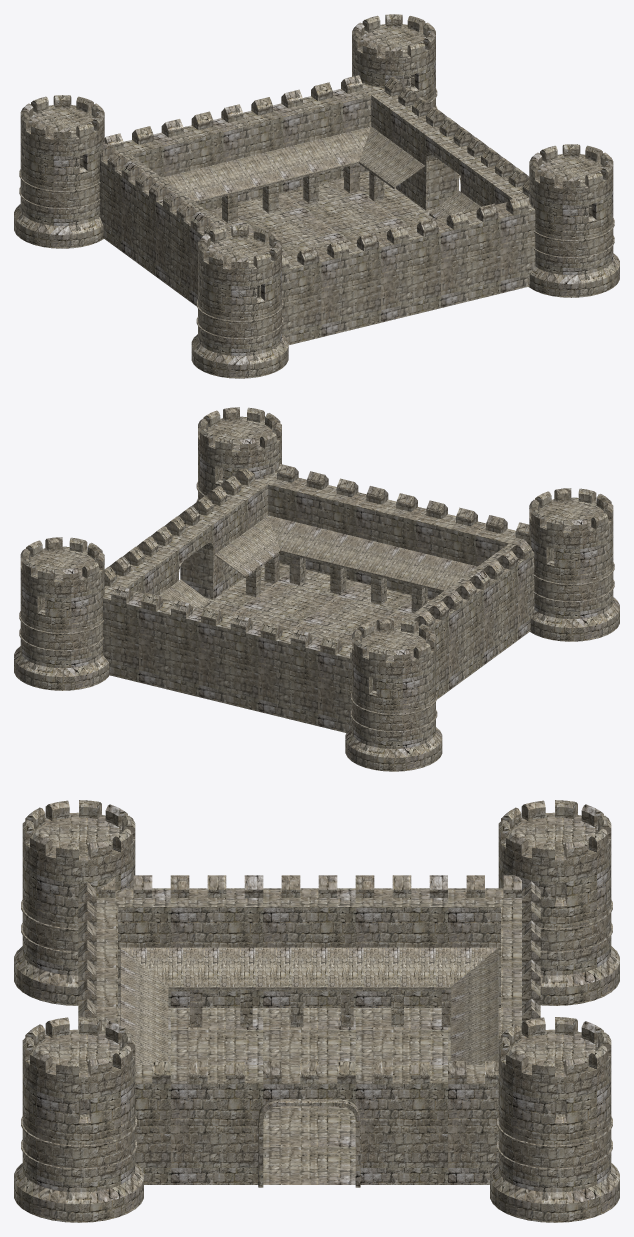
Rendered from castle_citadel.glb.
The picture shows the model from 3 angles, top to bottom: view 1: azimuth 30°, elevation 25°; view 2: azimuth 150°, elevation 25°; view 3: azimuth 270°, elevation 25°; orthographic projection. The views are drawn at different scales.
Parts seen in each view (by area): view 1: MedievalCastleCitadel; view 2: MedievalCastleCitadel; view 3: MedievalCastleCitadel.
Part boxes in pixels (left/top/right/bottom): MedievalCastleCitadel: left=14, top=14, right=619, bottom=378; MedievalCastleCitadel: left=14, top=407, right=619, bottom=771; MedievalCastleCitadel: left=14, top=800, right=619, bottom=1222.
Bounding box in the file's own units: 110 × 29.42 × 104.
Materials: 1 (1 with a texture image).
